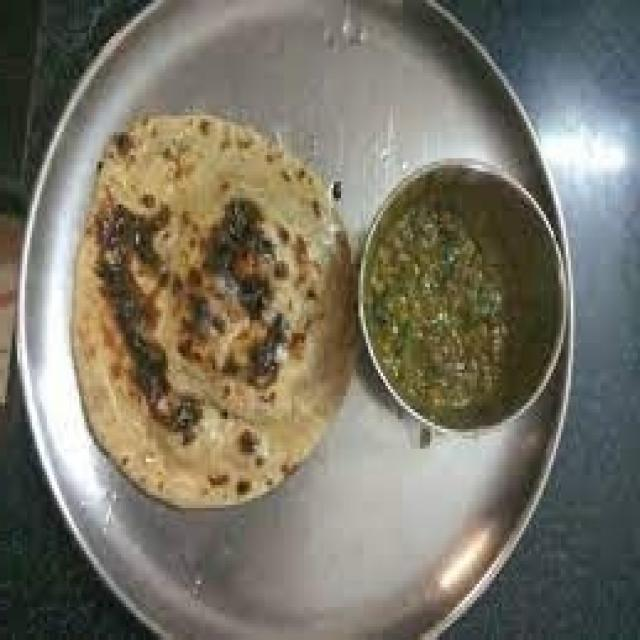Daal: (358, 191, 561, 416)
Roti: (59, 132, 351, 508)
